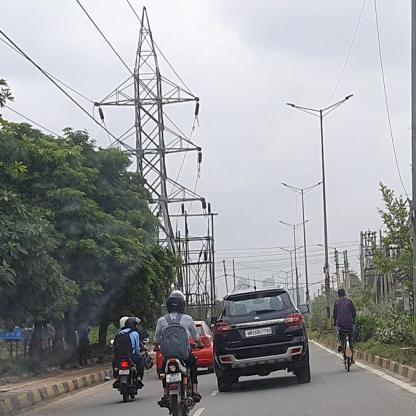car: (209, 287, 312, 392), (155, 321, 214, 377)
motorcycle: (154, 290, 204, 416), (109, 316, 153, 403), (332, 290, 356, 372)
